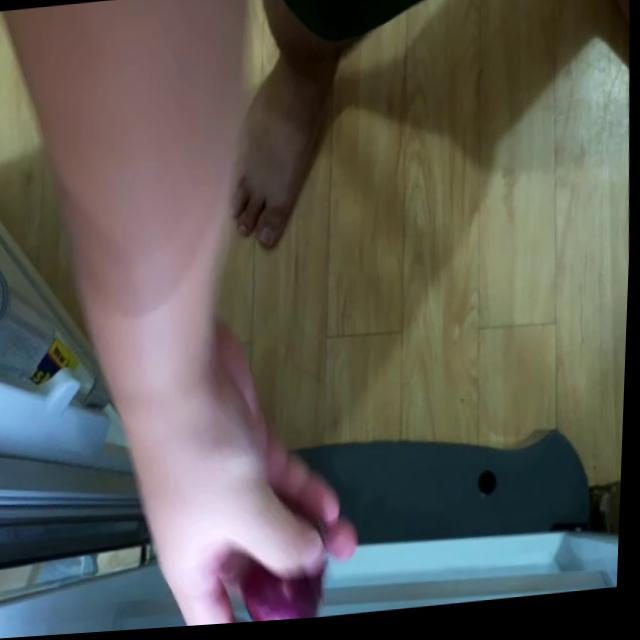onion: (242, 561, 330, 626)
